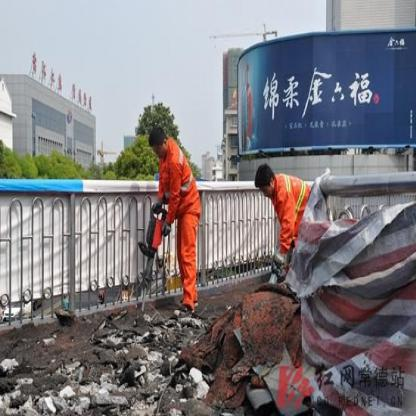person: (152, 130, 200, 310), (257, 163, 308, 230), (170, 148, 192, 210)
vest: (280, 176, 305, 216)
